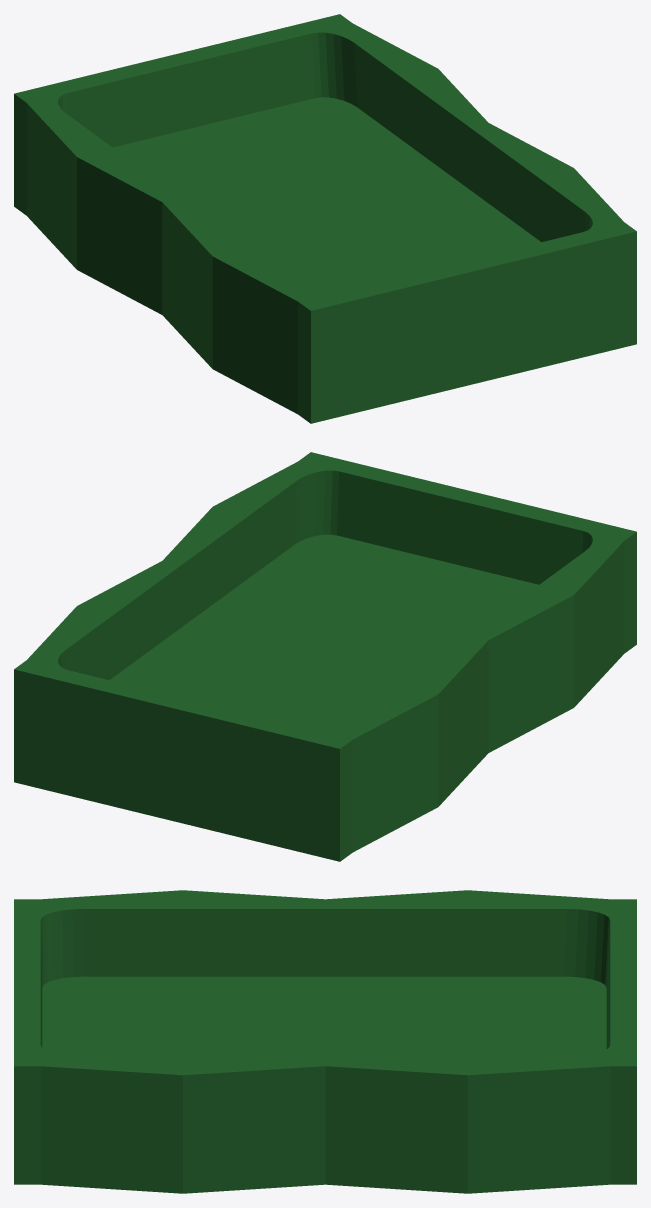
The model's file is Water_Ground.fbx.
3 views of the same model, one above another, from view 1: azimuth 30°, elevation 25°; view 2: azimuth 150°, elevation 25°; view 3: azimuth 270°, elevation 25° (orthographic). The views are drawn at different scales.
Parts seen in each view (by area): view 1: Cube, Cube.002, Cube.004, Cube.001, Cube.003; view 2: Cube, Cube.002, Cube.003, Cube.001, Cube.004; view 3: Cube.001, Cube.002, Cube, Cube.003, Cube.004.
Part boxes in pixels (x1,y1,x2,y2): Cube: [113, 97, 540, 292]; Cube.002: [14, 89, 338, 423]; Cube.004: [329, 232, 618, 418]; Cube.001: [312, 14, 636, 348]; Cube.003: [34, 19, 320, 147]; Cube: [110, 534, 538, 730]; Cube.002: [312, 527, 636, 861]; Cube.003: [32, 670, 321, 856]; Cube.001: [14, 452, 339, 786]; Cube.004: [330, 457, 616, 584]; Cube.001: [14, 1045, 636, 1193]; Cube.002: [14, 890, 636, 987]; Cube: [42, 976, 606, 1056]; Cube.003: [606, 909, 636, 1056]; Cube.004: [14, 909, 42, 1056].
Bounding box in the file's own units: 670 × 200 × 953.
